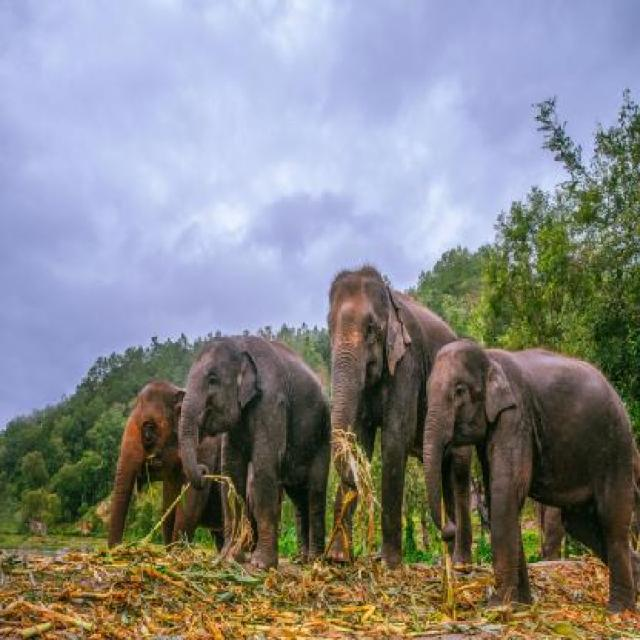Elephant: (417, 332, 638, 617), (326, 256, 477, 576), (178, 330, 333, 572), (104, 360, 208, 557)
